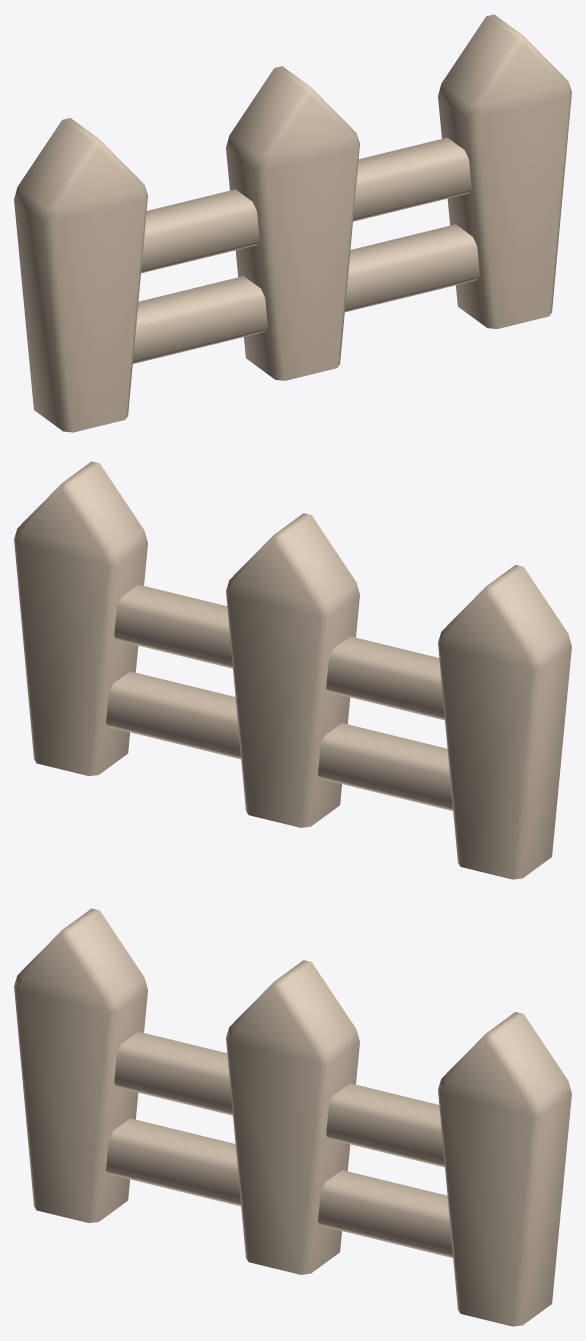
File: fence_straight_long.glb
3 renders of one model, top to bottom at view 1: azimuth 30°, elevation 25°; view 2: azimuth 150°, elevation 25°; view 3: azimuth 330°, elevation 25°, orthographic.
Visible parts, largest first — view 1: fence_straight_long; view 2: fence_straight_long; view 3: fence_straight_long.
Boxes of the visible parts, bbox=[...] form: fence_straight_long: bbox=[14, 14, 571, 432]; fence_straight_long: bbox=[14, 461, 571, 879]; fence_straight_long: bbox=[14, 908, 571, 1326].
Size of the model in its own units: 2.49 by 1.28 by 0.3.
